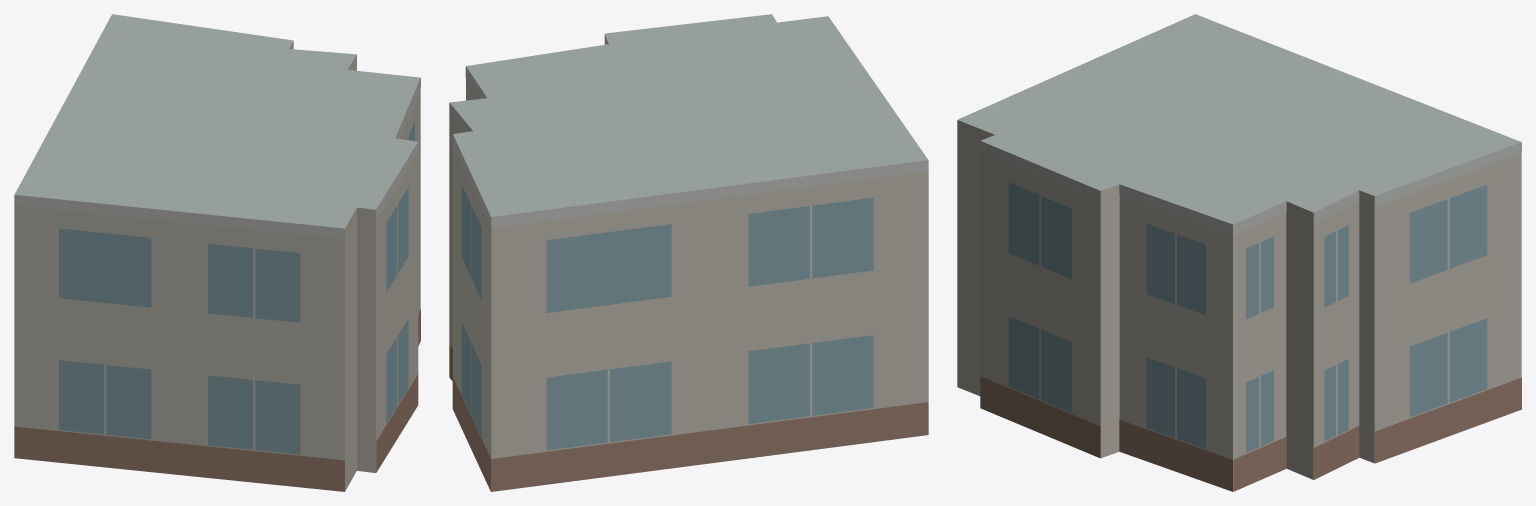
Rendered from survey-upis-32950489.glb.
3 renders of one model, left to right at view 1: azimuth 30°, elevation 25°; view 2: azimuth 150°, elevation 25°; view 3: azimuth 270°, elevation 25°, orthographic. The views are drawn at different scales.
Visible parts, largest first — view 1: survey-upis-32950489.tmp; view 2: survey-upis-32950489.tmp; view 3: survey-upis-32950489.tmp.
Boxes of the visible parts, x1,y1,x2,y2 form: survey-upis-32950489.tmp: (14, 14, 420, 491); survey-upis-32950489.tmp: (449, 14, 928, 491); survey-upis-32950489.tmp: (957, 14, 1521, 491).
Size of the model in its own units: 10.31 by 6.1 by 11.68.
